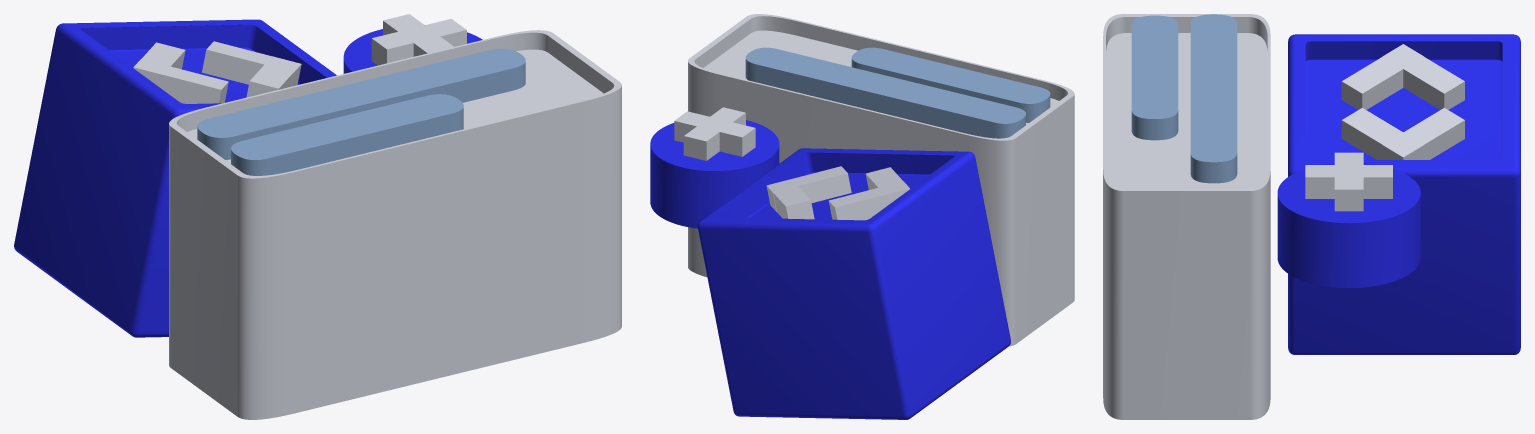
Rendered from build-icon3.glb.
The picture shows the model from 3 angles, left to right: view 1: azimuth 30°, elevation 25°; view 2: azimuth 150°, elevation 25°; view 3: azimuth 270°, elevation 25°; orthographic projection. The views are drawn at different scales.
Visible parts, largest first — view 1: Bottom Rect, Top Cube, Text.001, Text 2, Merged Geometry 2, Merged Geometry.003, Merged Geometry.002; view 2: Top Cube, Bottom Rect, Text.001, Merged Geometry.002, Text 2, Merged Geometry 2, Merged Geometry.003; view 3: Bottom Rect, Top Cube, Merged Geometry.002, Merged Geometry 2, Text.001, Text 2, Merged Geometry.003.
Boxes of the visible parts, left/top/right/bottom form: Bottom Rect: left=169, top=30, right=621, bottom=419; Top Cube: left=14, top=19, right=336, bottom=337; Text.001: left=197, top=48, right=525, bottom=159; Text 2: left=231, top=94, right=463, bottom=175; Merged Geometry 2: left=133, top=41, right=301, bottom=103; Merged Geometry.003: left=371, top=14, right=466, bottom=65; Merged Geometry.002: left=343, top=29, right=482, bottom=73; Top Cube: left=697, top=148, right=1010, bottom=419; Bottom Rect: left=688, top=14, right=1074, bottom=346; Text.001: left=745, top=47, right=1025, bottom=138; Merged Geometry.002: left=650, top=120, right=779, bottom=228; Text 2: left=851, top=47, right=1050, bottom=122; Merged Geometry 2: left=766, top=166, right=909, bottom=220; Merged Geometry.003: left=674, top=107, right=755, bottom=160; Bottom Rect: left=1103, top=14, right=1270, bottom=419; Top Cube: left=1288, top=34, right=1520, bottom=354; Merged Geometry.002: left=1277, top=163, right=1420, bottom=287; Merged Geometry 2: left=1341, top=44, right=1464, bottom=159; Text.001: left=1190, top=14, right=1237, bottom=183; Text 2: left=1131, top=15, right=1178, bottom=140; Merged Geometry.003: left=1305, top=152, right=1392, bottom=211.
Size of the model in its own units: 10.01 by 6.57 by 9.56.
